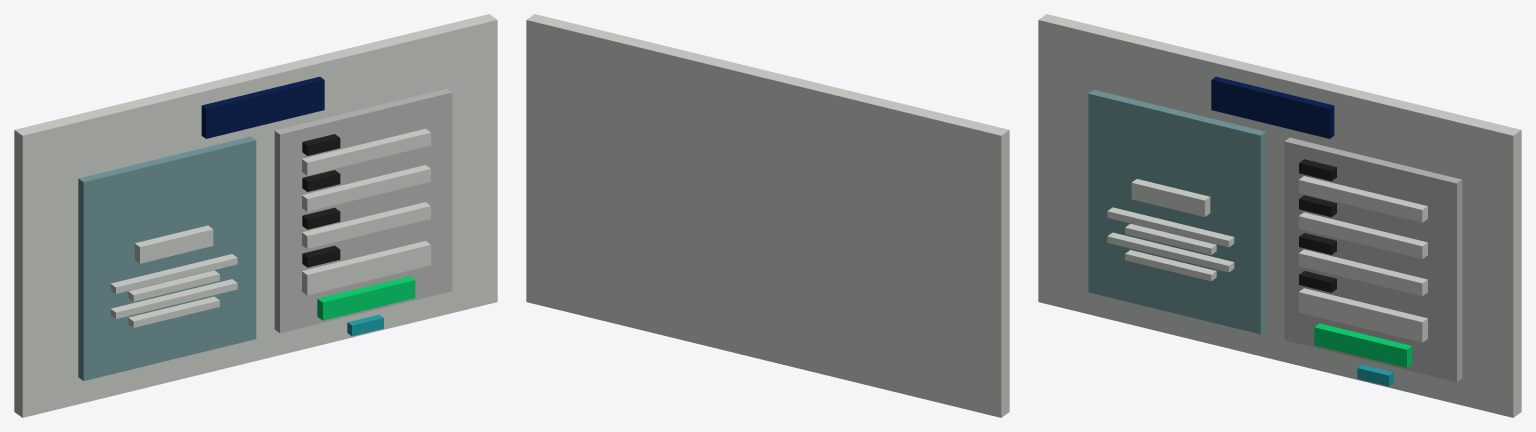
3 views of the same model, side by side, from view 1: azimuth 30°, elevation 25°; view 2: azimuth 150°, elevation 25°; view 3: azimuth 330°, elevation 25° (orthographic).
Parts seen in each view (by area): view 1: Cube.001; view 2: Cube.001; view 3: Cube.001.
Boxes of the visible parts, x1,y1,x2,y2 form: Cube.001: [14, 14, 497, 417]; Cube.001: [526, 14, 1009, 417]; Cube.001: [1038, 14, 1521, 417].
Bounding box in the file's own units: 20.92 × 11.88 × 1.55.
